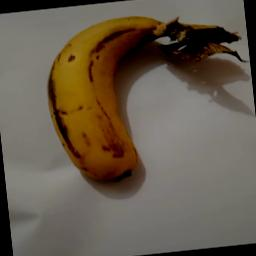Banana Unripe: (39, 0, 254, 189)
